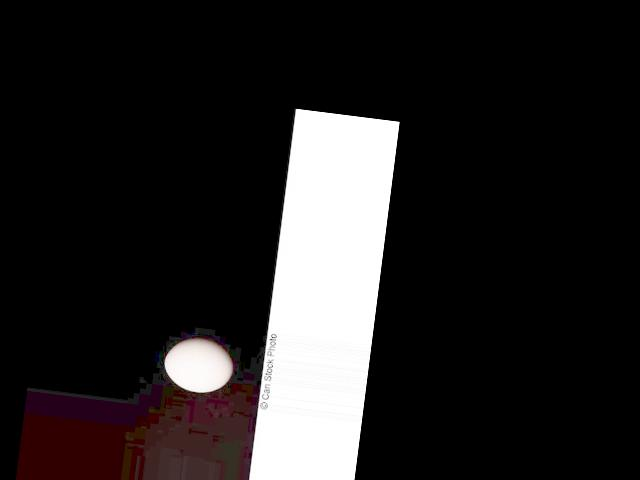egg: (161, 334, 237, 396)
